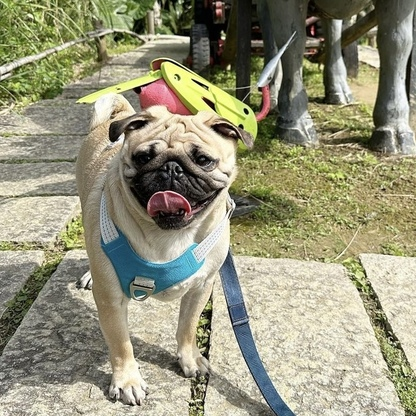Pug: (70, 87, 253, 410)
